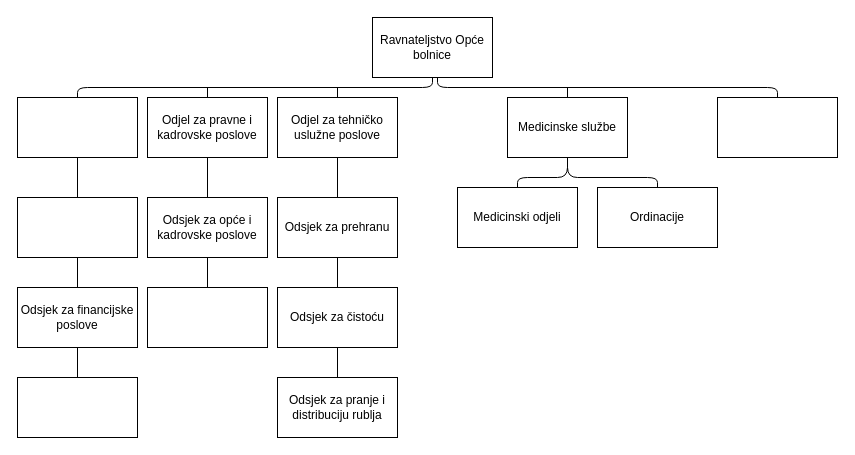
Image size: 855x455. Some labels were removed from this diagram. Here are the shapes that lost their labels. From the top down, the centre of each, then its label:
the point at 77,127: Odjel za ekonomsko administrativne poslove
the point at 777,127: Bolnička ljekarna
the point at 77,227: Odsjek za računovodstvene poslove
the point at 207,317: Odsjek za zaštitu na radu
the point at 77,407: Odsjek za informatičke poslove
